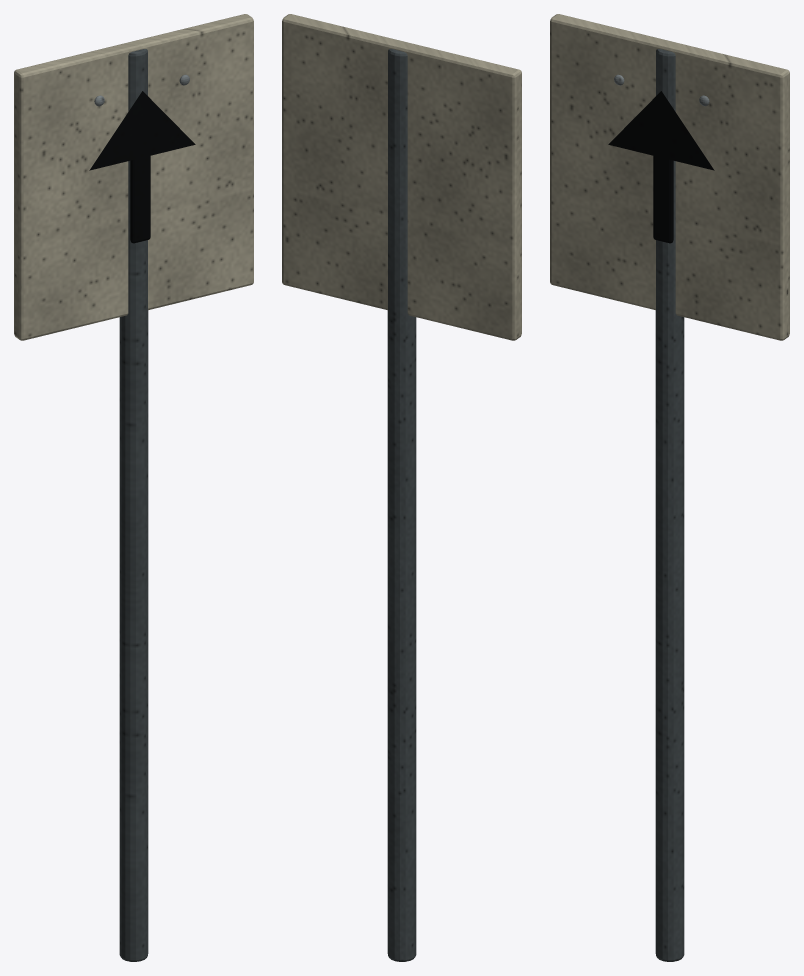
File: PROP-992B6FB769E1_lod0.glb
The picture shows the model from 3 angles, left to right: view 1: azimuth 30°, elevation 25°; view 2: azimuth 150°, elevation 25°; view 3: azimuth 330°, elevation 25°; orthographic projection.
Visible parts, largest first — view 1: sign_plate, sign_post, direction_symbol, symbol_stem; view 2: sign_plate, sign_post; view 3: sign_plate, sign_post, direction_symbol, symbol_stem.
Boxes of the visible parts, bbox=[...] form: sign_plate: bbox=[14, 14, 253, 340]; sign_post: bbox=[119, 49, 148, 961]; direction_symbol: bbox=[89, 91, 195, 170]; symbol_stem: bbox=[130, 156, 150, 243]; sign_plate: bbox=[282, 14, 521, 340]; sign_post: bbox=[387, 49, 416, 961]; sign_plate: bbox=[550, 14, 789, 340]; sign_post: bbox=[655, 49, 684, 961]; direction_symbol: bbox=[608, 91, 714, 170]; symbol_stem: bbox=[653, 156, 673, 243].
Bounding box in the file's own units: 0.66 × 2.46 × 0.083.
Materials: 4 (4 with a texture image).
